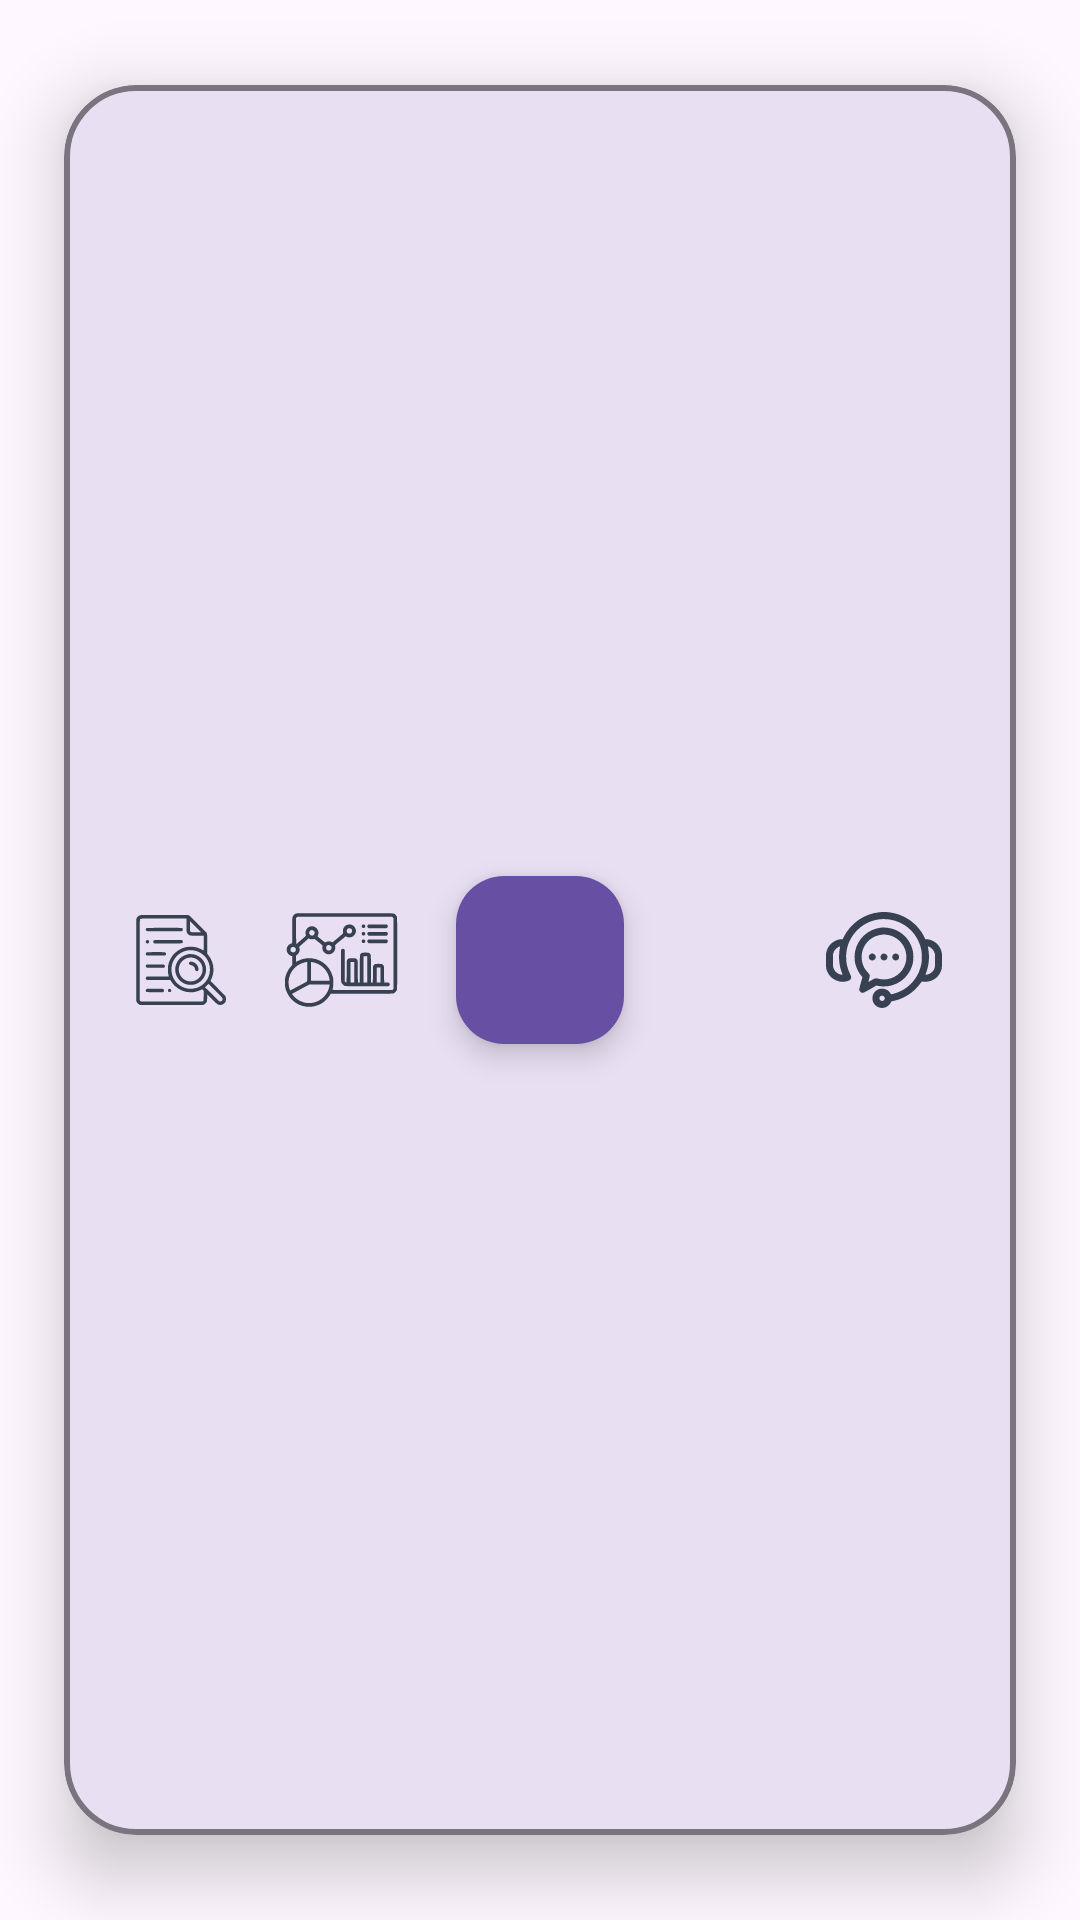

Where to tap for icons on this 1080 x 1920 app screen, as point (x, y):
customer service: point (884, 960)
dashboard: point (341, 960)
file: point (181, 960)
